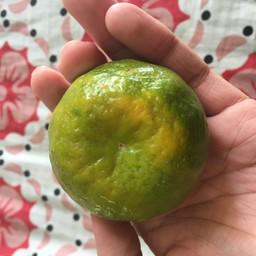Good_orange: (46, 56, 220, 229)
